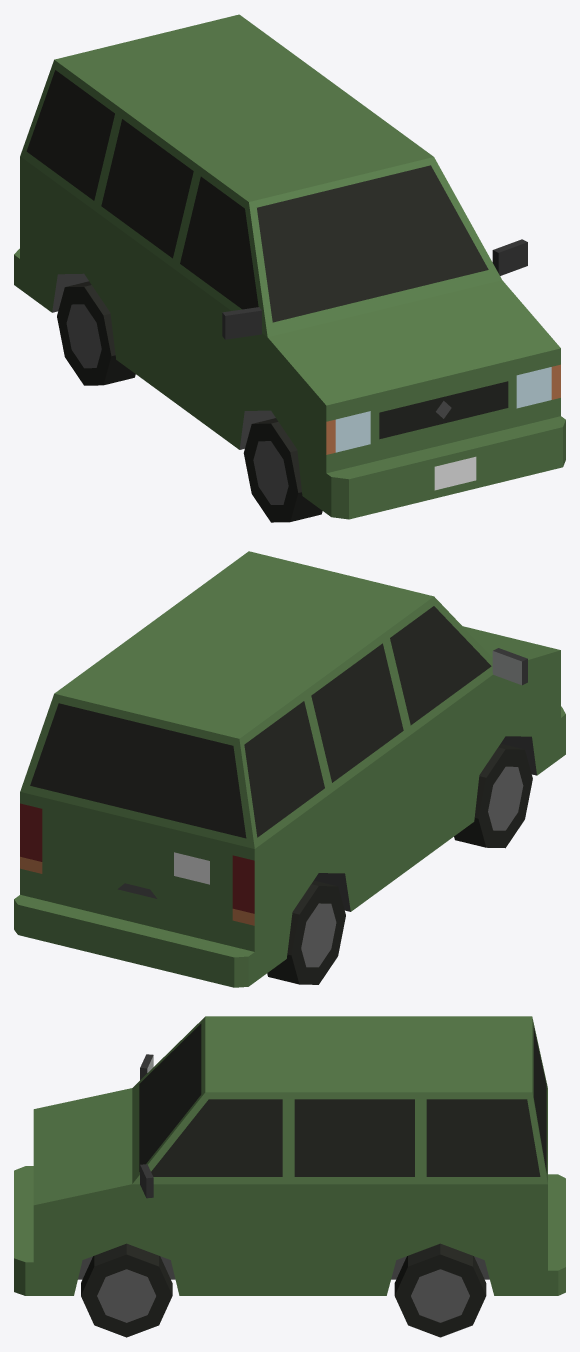
Rendered from Veh_Minivan_Green.glb.
3 renders of one model, top to bottom at view 1: azimuth 30°, elevation 25°; view 2: azimuth 150°, elevation 25°; view 3: azimuth 270°, elevation 25°, orthographic. The views are drawn at different scales.
Parts seen in each view (by area): view 1: Minivan_Green, Wheel_RR, Wheel_FR; view 2: Minivan_Green, Wheel_RR, Wheel_FR; view 3: Minivan_Green, Wheel_RL, Wheel_FL.
Boxes of the visible parts, box(x1,y1,x2,y2) form: Minivan_Green: box(14, 14, 565, 519); Wheel_RR: box(57, 281, 135, 385); Wheel_FR: box(243, 418, 322, 522); Minivan_Green: box(14, 551, 565, 987); Wheel_RR: box(267, 880, 345, 984); Wheel_FR: box(454, 744, 532, 848); Minivan_Green: box(14, 1016, 565, 1295); Wheel_RL: box(394, 1243, 486, 1337); Wheel_FL: box(81, 1243, 172, 1337).
Size of the model in its own units: 1.31 by 1.16 by 2.46.
1 material, 1 textured.
